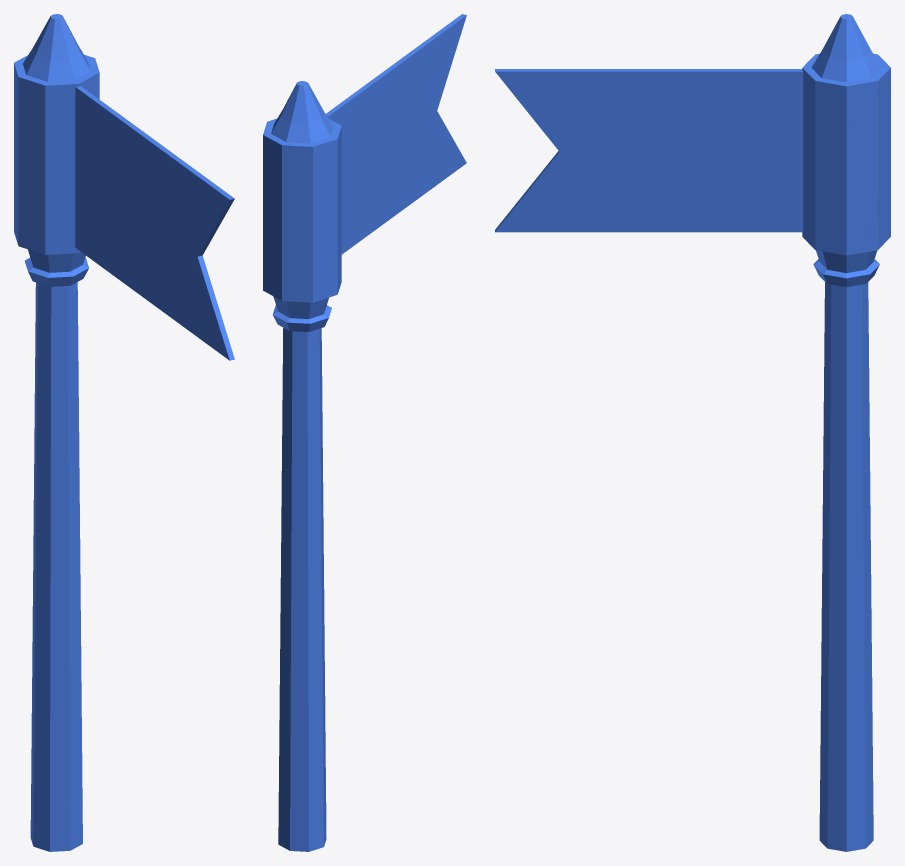
File: Flag_Variant2.fbx
3 renders of one model, left to right at view 1: azimuth 30°, elevation 25°; view 2: azimuth 150°, elevation 25°; view 3: azimuth 270°, elevation 25°, orthographic. The views are drawn at different scales.
Parts seen in each view (by area): view 1: Flag_Variant2; view 2: Flag_Variant2; view 3: Flag_Variant2.
Boxes of the visible parts, x1,y1,x2,y2 form: Flag_Variant2: (14,14,234,851); Flag_Variant2: (263,14,466,851); Flag_Variant2: (495,14,890,851).
Bounding box in the file's own units: 26.96 × 277 × 120.
